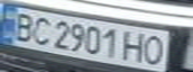0: (84, 24, 103, 56)
1: (100, 25, 121, 60)
2: (48, 18, 72, 51)
9: (66, 20, 87, 54)
B: (6, 10, 39, 42)
C: (27, 15, 54, 46)
H: (121, 29, 148, 63)
O: (139, 33, 169, 66)
